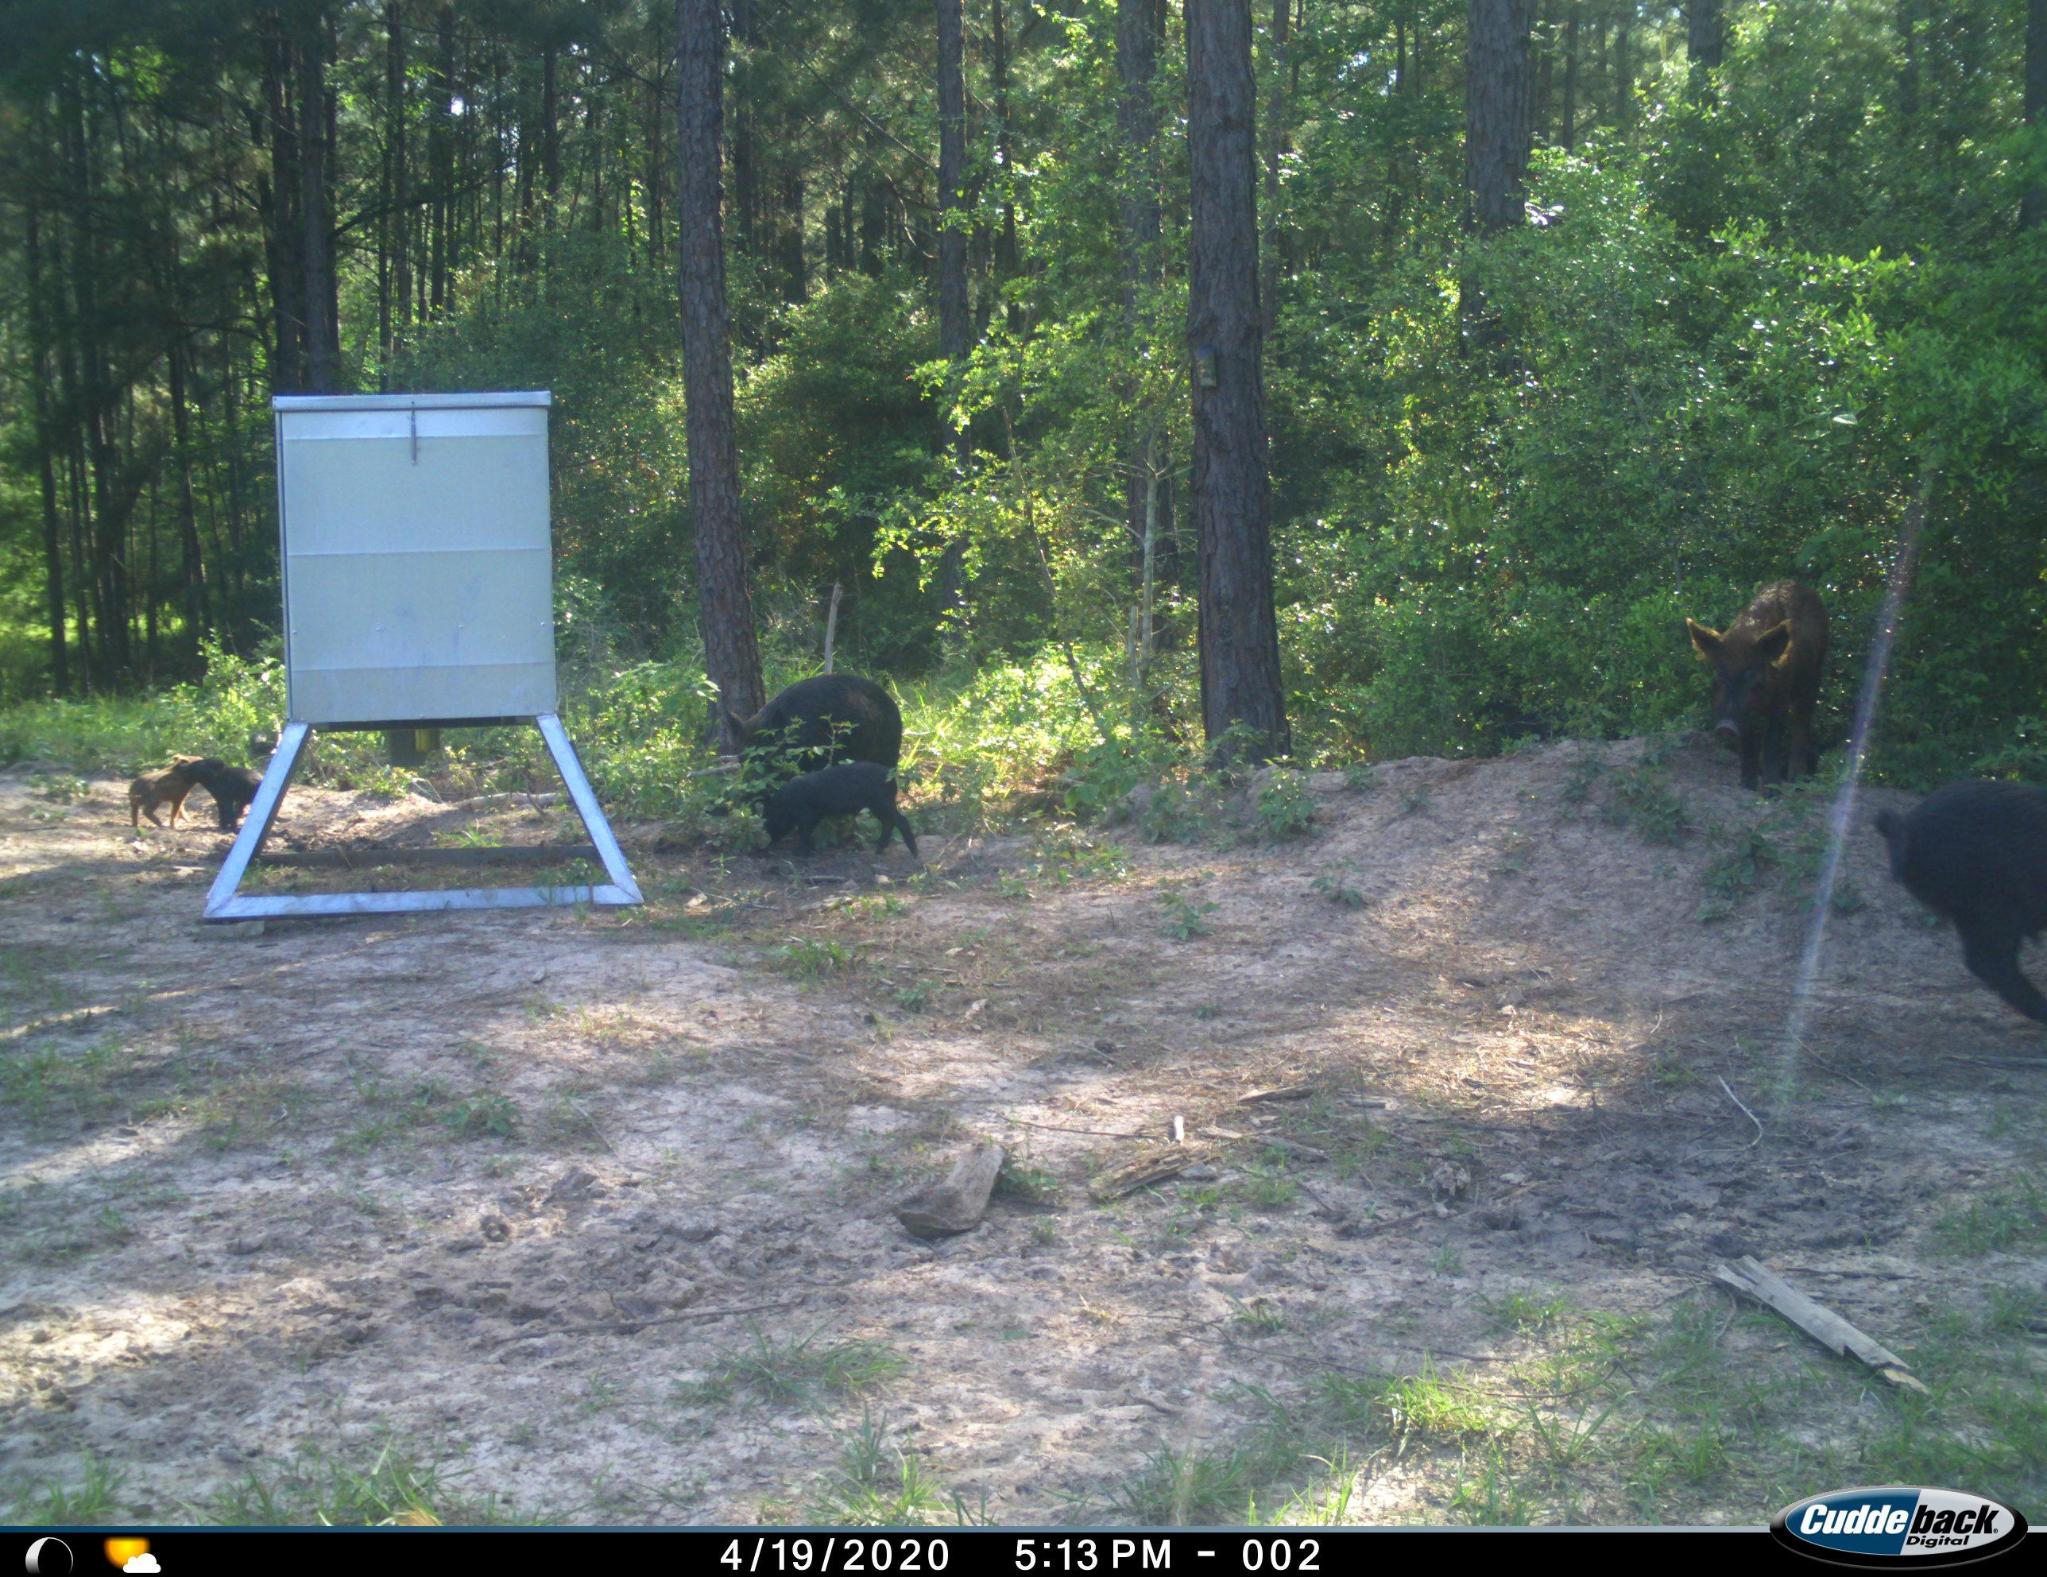Hog: (1865, 774, 2047, 1050), (1673, 570, 1845, 797), (712, 664, 913, 810), (762, 764, 914, 866), (113, 747, 200, 828)
